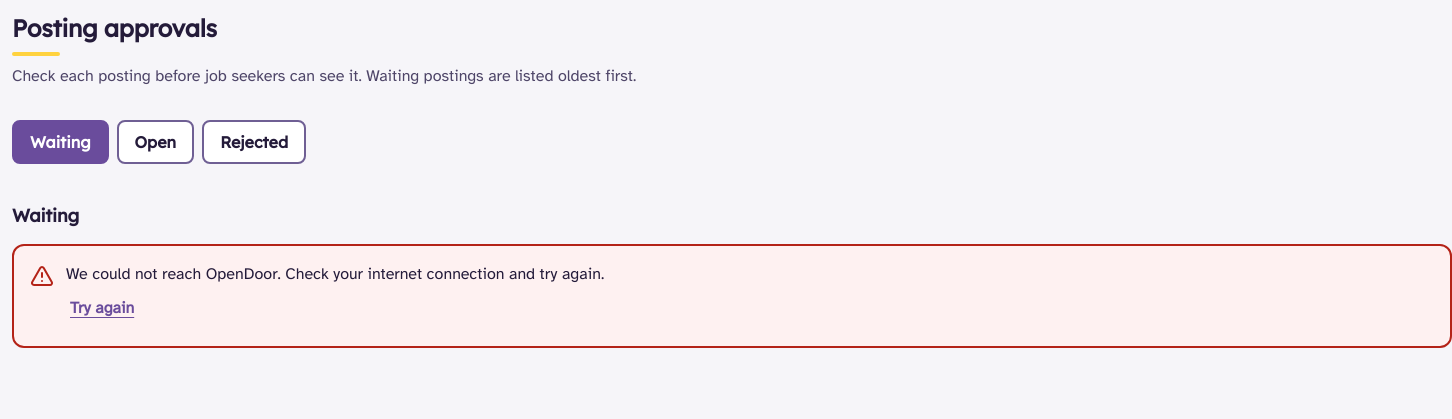
it: PostingApprovalsPage › offers Try again when the list cannot be loaded
The width and height of the screenshot is (1452, 419).
expect the text "We could not reach OpenDoor" is shown: met, box [66,264,604,284]
Click the button "Try again".
click(102, 308)  # box [66,286,138,330]
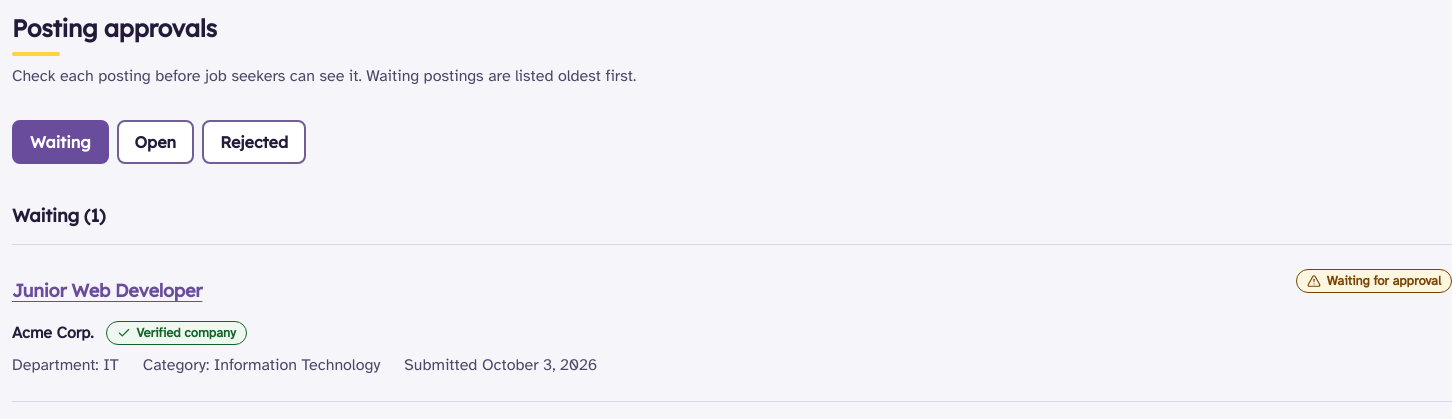
expect the heading "Waiting (1)" is shown: met, box [12,204,105,227]
expect the text "We could not reach OpenDoor" is gone: met
